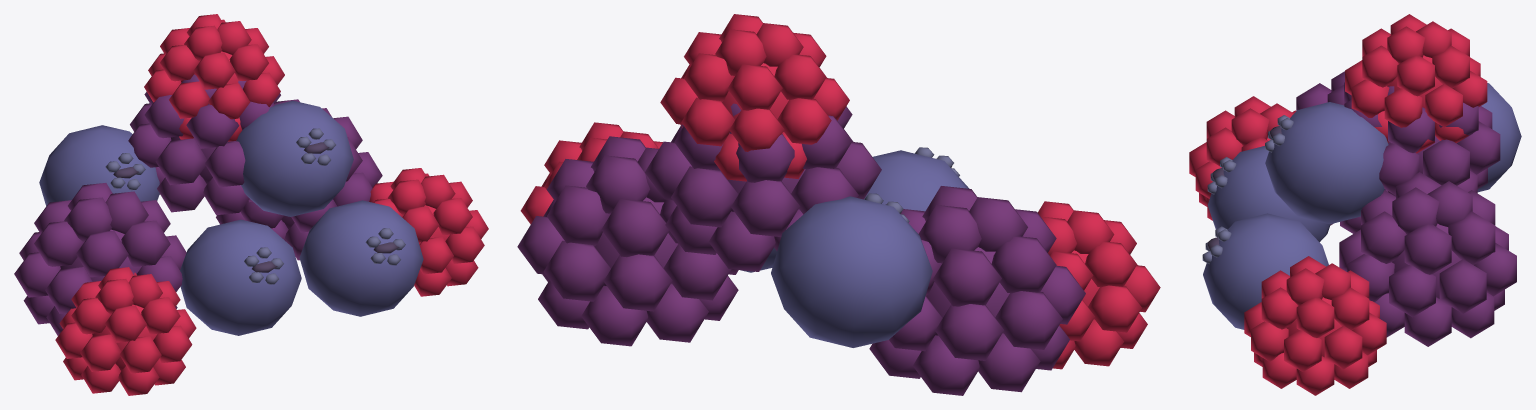
The model's file is 09_mixed_berries.glb.
The picture shows the model from 3 angles, left to right: view 1: azimuth 30°, elevation 25°; view 2: azimuth 150°, elevation 25°; view 3: azimuth 270°, elevation 25°; orthographic projection. The views are drawn at different scales.
Visible parts, largest first — view 1: Raspberry drupe; view 2: Raspberry drupe; view 3: Raspberry drupe.
Part boxes in pixels (x1,y1,x2,y2): Raspberry drupe: [14, 14, 488, 395]; Raspberry drupe: [517, 14, 1160, 395]; Raspberry drupe: [1189, 14, 1521, 395].
Bounding box in the file's own units: 0.2193 × 0.125 × 0.1386.
